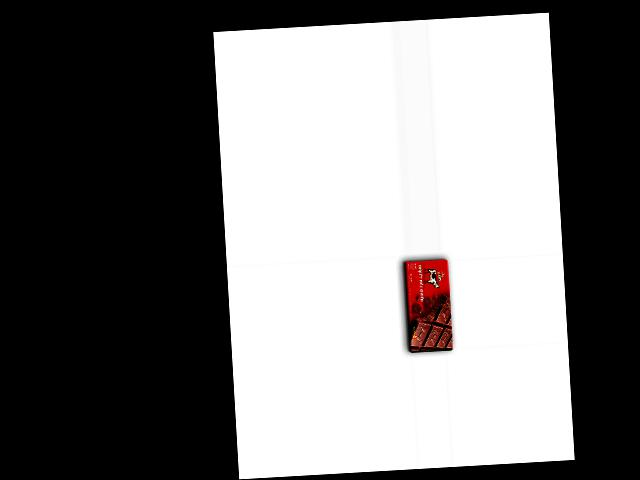chocolate: (400, 256, 455, 354)
